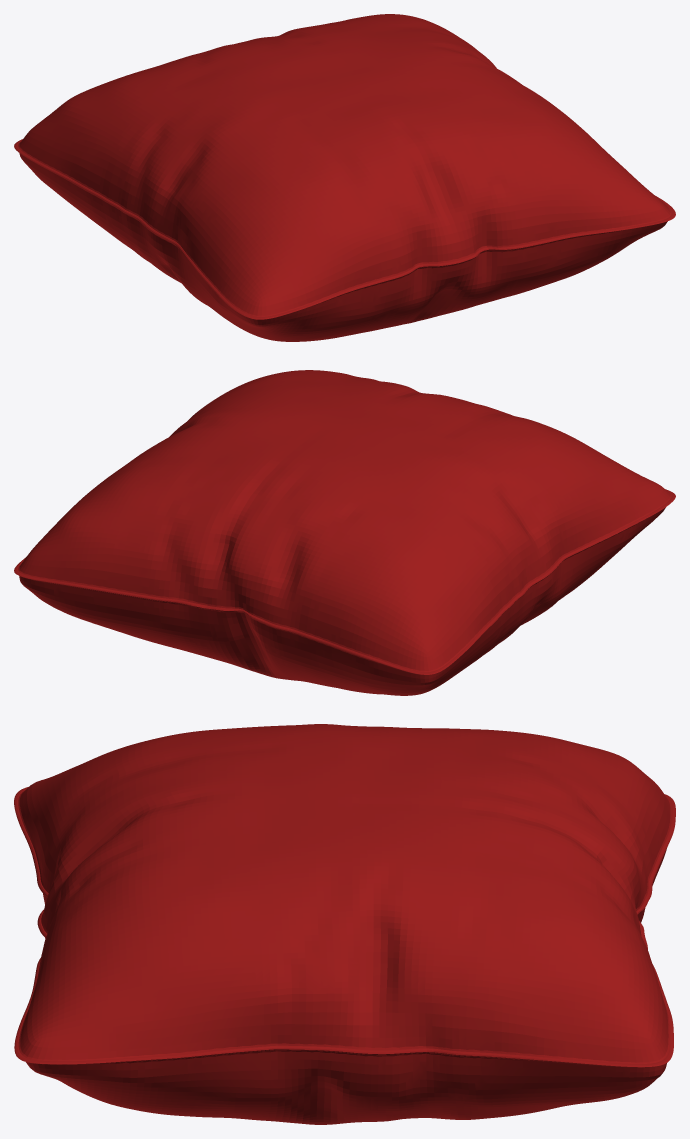
Rendered from model_Classic_Pillow.fbx.
The picture shows the model from 3 angles, top to bottom: view 1: azimuth 30°, elevation 25°; view 2: azimuth 150°, elevation 25°; view 3: azimuth 270°, elevation 25°; orthographic projection. The views are drawn at different scales.
Parts seen in each view (by area): view 1: Cube; view 2: Cube; view 3: Cube.
Boxes of the visible parts, <box> form: Cube: <box>14,14,675,341</box>; Cube: <box>14,370,675,695</box>; Cube: <box>14,724,675,1124</box>.
Bounding box in the file's own units: 196 × 86.99 × 195.
